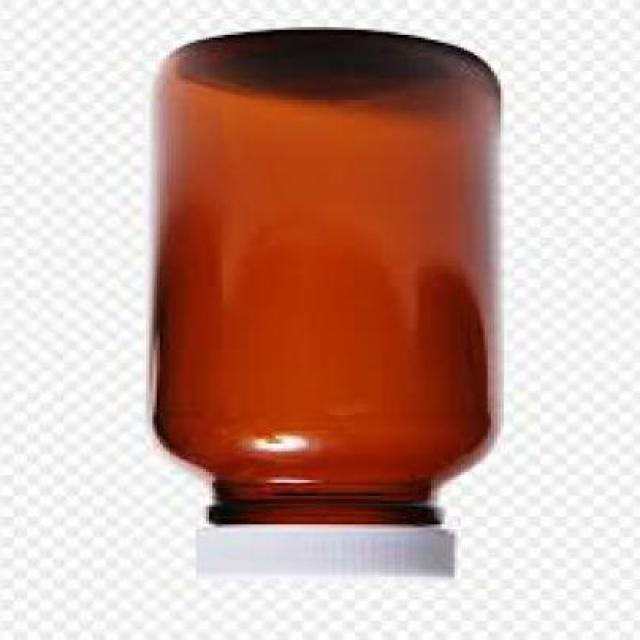kaca: (154, 32, 504, 530)
